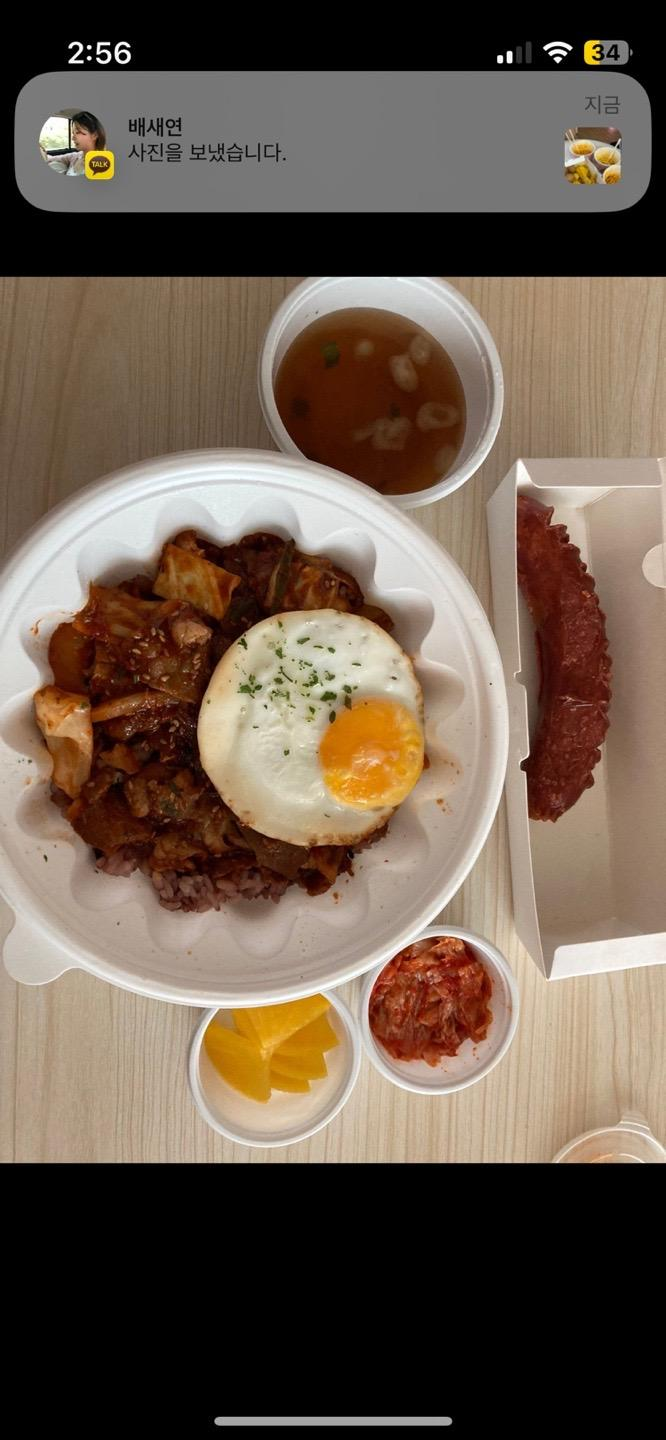Lunch Box: (0, 449, 508, 1007), (487, 459, 665, 978), (259, 276, 503, 507), (187, 989, 360, 1147), (360, 927, 517, 1093)
